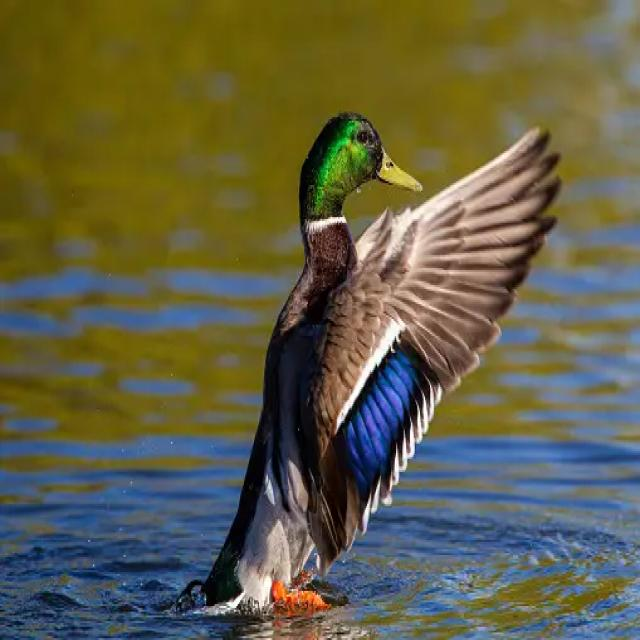ducks: (172, 100, 596, 631)
